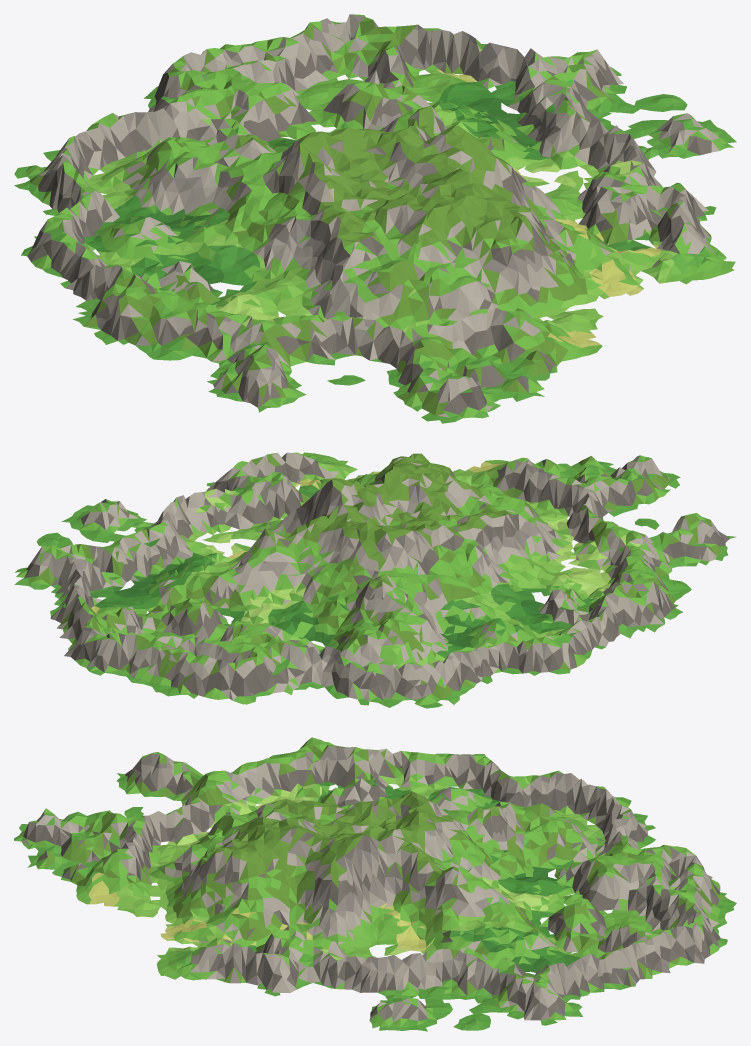
File: Isl-rocky2-Relief.fbx
3 renders of one model, top to bottom at view 1: azimuth 30°, elevation 25°; view 2: azimuth 150°, elevation 25°; view 3: azimuth 270°, elevation 25°, orthographic. The views are drawn at different scales.
Visible parts, largest first — view 1: Isl-rocky2-Relief-c11, Isl-rocky2-Relief-c12, Isl-rocky2-Relief-c22, Isl-rocky2-Relief-c21; view 2: Isl-rocky2-Relief-c12, Isl-rocky2-Relief-c11, Isl-rocky2-Relief-c22, Isl-rocky2-Relief-c21; view 3: Isl-rocky2-Relief-c22, Isl-rocky2-Relief-c21, Isl-rocky2-Relief-c11, Isl-rocky2-Relief-c12.
Boxes of the visible parts, bbox=[...] form: Isl-rocky2-Relief-c11: bbox=[73, 128, 596, 423]; Isl-rocky2-Relief-c12: bbox=[14, 48, 405, 293]; Isl-rocky2-Relief-c22: bbox=[220, 14, 727, 181]; Isl-rocky2-Relief-c21: bbox=[407, 124, 736, 352]; Isl-rocky2-Relief-c12: bbox=[180, 505, 613, 708]; Isl-rocky2-Relief-c11: bbox=[343, 455, 736, 640]; Isl-rocky2-Relief-c22: bbox=[14, 502, 342, 696]; Isl-rocky2-Relief-c21: bbox=[80, 452, 498, 549]; Isl-rocky2-Relief-c22: bbox=[392, 830, 736, 1031]; Isl-rocky2-Relief-c21: bbox=[78, 828, 396, 1030]; Isl-rocky2-Relief-c11: bbox=[14, 737, 396, 900]; Isl-rocky2-Relief-c12: bbox=[392, 751, 727, 899].
Size of the model in its own units: 80.55 by 11.11 by 89.12.
